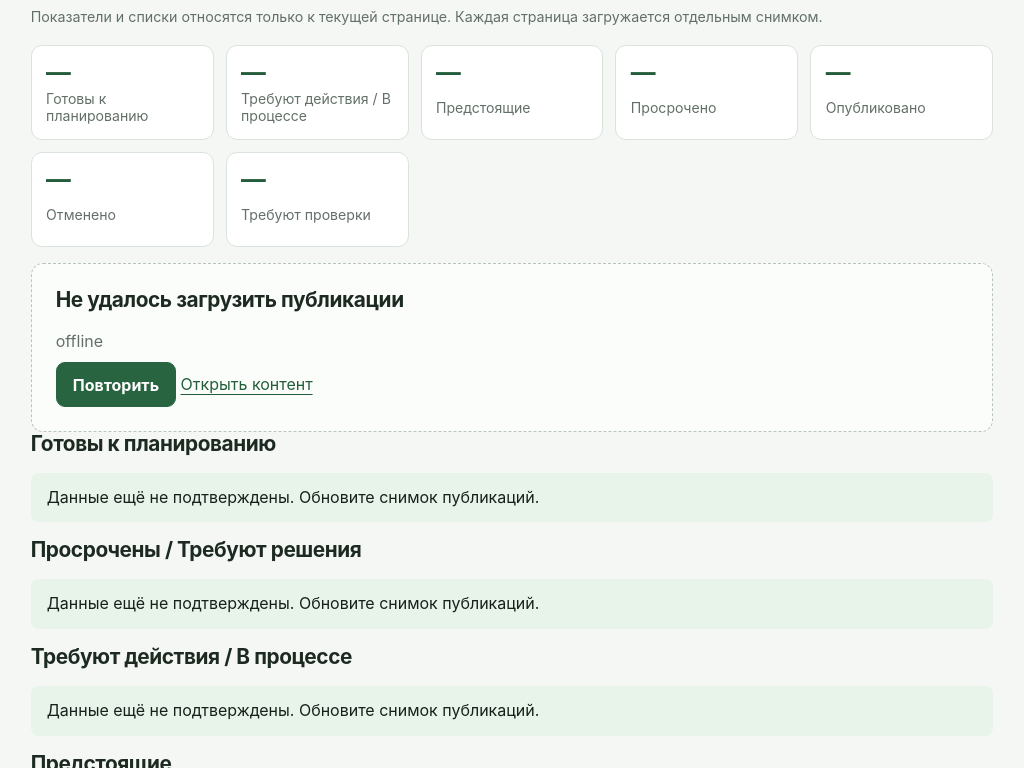
Test: snapshot failures and pagination › retries an initial error without claiming zero results
(page scrolled)
expect the message shows "offline": met, box [56,331,103,351]
expect the text "На этой странице нет предстоящих публикаций." is not shown: met
What coordinates should you click on to do the following:
click the button "Повторить"
I would click on:
 (116, 385)
Its box is [56,362,176,407].
(page scrolled)
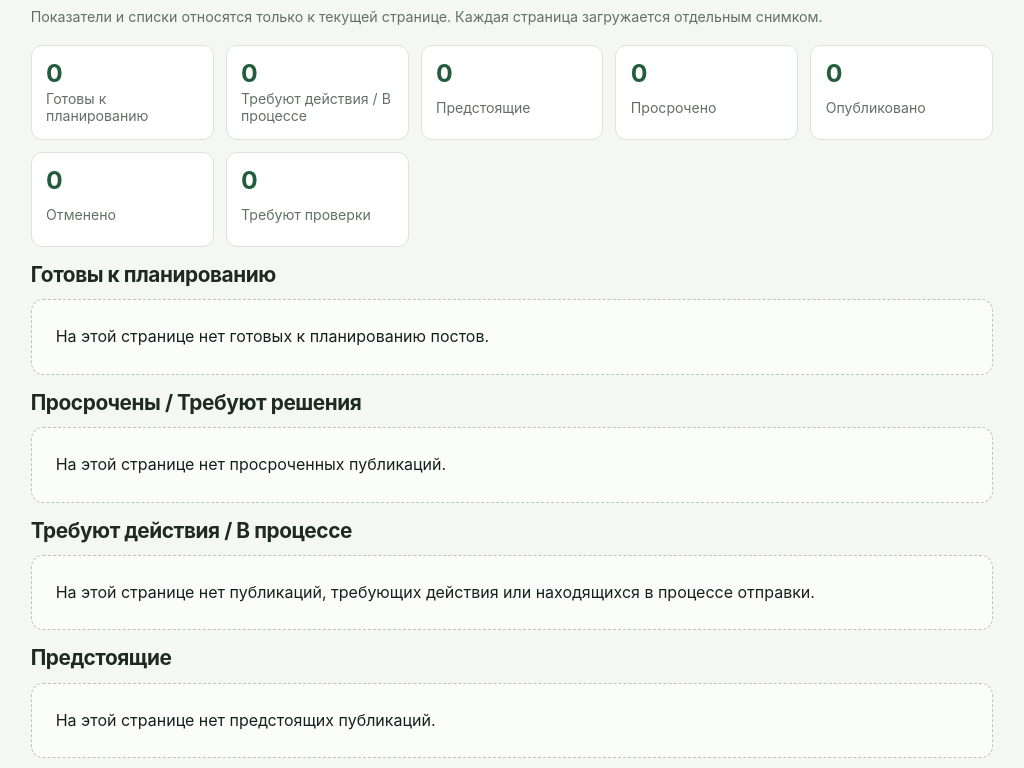
expect the text "На этой странице нет предстоящих публикаций." is shown: met, box [31,682,993,758]
